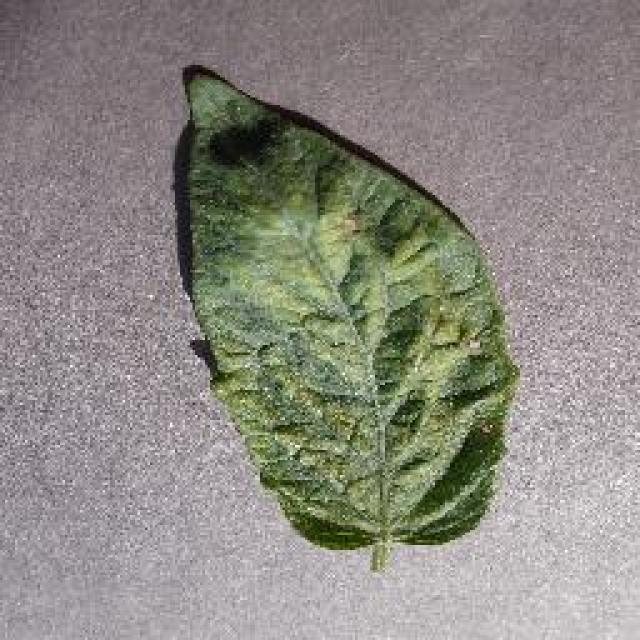Tomato spider mites leaf: (185, 68, 520, 550)
